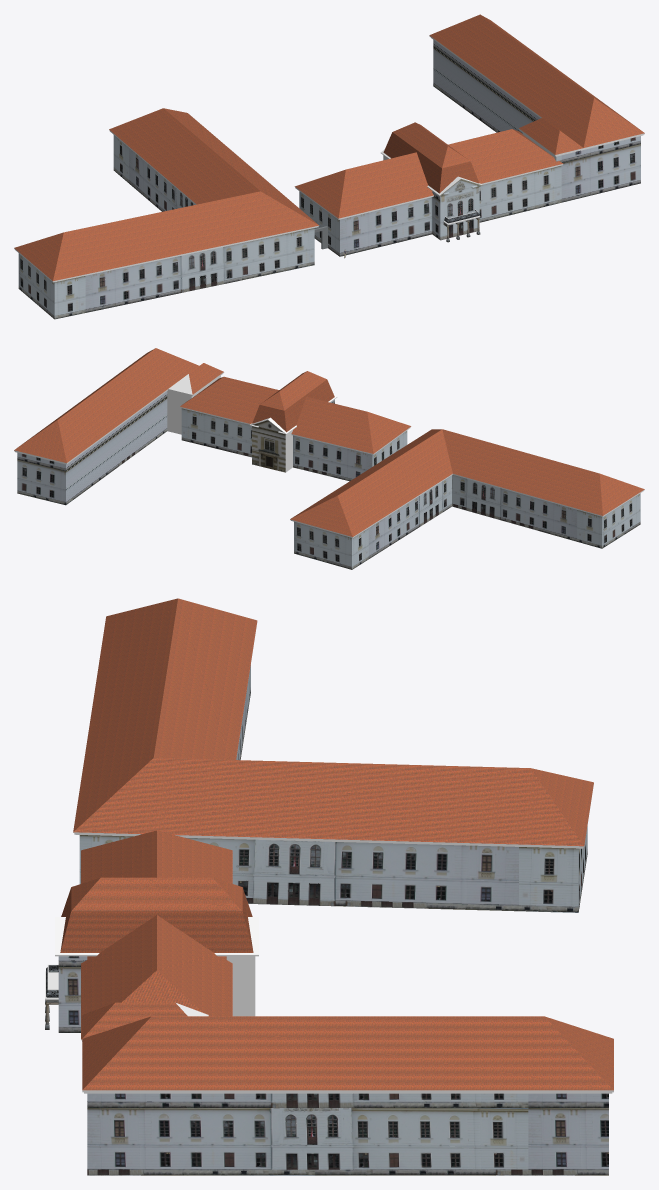
File: schloss.glb
The picture shows the model from 3 angles, top to bottom: view 1: azimuth 30°, elevation 25°; view 2: azimuth 150°, elevation 25°; view 3: azimuth 270°, elevation 25°; orthographic projection. The views are drawn at different scales.
Visible parts, largest first — view 1: SketchUp.037, SketchUp.036, SketchUp.003, SketchUp.004, SketchUp.034, SketchUp.001, SketchUp.002, SketchUp.035, SketchUp, SketchUp.033; view 2: SketchUp.037, SketchUp.036, SketchUp.003, SketchUp.034, SketchUp.004, SketchUp.001, SketchUp.006, SketchUp, SketchUp.005, SketchUp.033, SketchUp.035; view 3: SketchUp.037, SketchUp.004, SketchUp.034, SketchUp.003, SketchUp.036, SketchUp, SketchUp.033, SketchUp.035.
Part boxes in pixels (x1,y1,x2,y2): SketchUp.037: [14, 108, 318, 280]; SketchUp.036: [18, 135, 314, 319]; SketchUp.003: [295, 122, 562, 218]; SketchUp.004: [433, 40, 640, 222]; SketchUp.034: [429, 14, 644, 154]; SketchUp.001: [299, 191, 440, 256]; SketchUp.002: [440, 179, 482, 240]; SketchUp.035: [14, 130, 318, 282]; SketchUp: [295, 133, 562, 219]; SketchUp.033: [429, 35, 644, 156]; SketchUp.037: [290, 429, 644, 536]; SketchUp.036: [294, 475, 640, 569]; SketchUp.003: [180, 371, 410, 453]; SketchUp.034: [14, 348, 223, 462]; SketchUp.004: [17, 391, 167, 505]; SketchUp.001: [293, 399, 407, 481]; SketchUp.006: [181, 408, 251, 457]; SketchUp: [167, 376, 410, 472]; SketchUp.005: [252, 420, 285, 472]; SketchUp.033: [14, 372, 224, 464]; SketchUp.035: [290, 474, 644, 537]; SketchUp.037: [73, 598, 593, 846]; SketchUp.004: [58, 956, 608, 1175]; SketchUp.034: [82, 1002, 613, 1090]; SketchUp.003: [60, 830, 253, 1039]; SketchUp.036: [79, 665, 587, 912]; SketchUp: [55, 917, 258, 1041]; SketchUp.033: [82, 1003, 613, 1093]; SketchUp.035: [73, 622, 593, 848].
Bounding box in the file's own units: 127 × 16.65 × 61.84.
15 materials, 8 textured.
